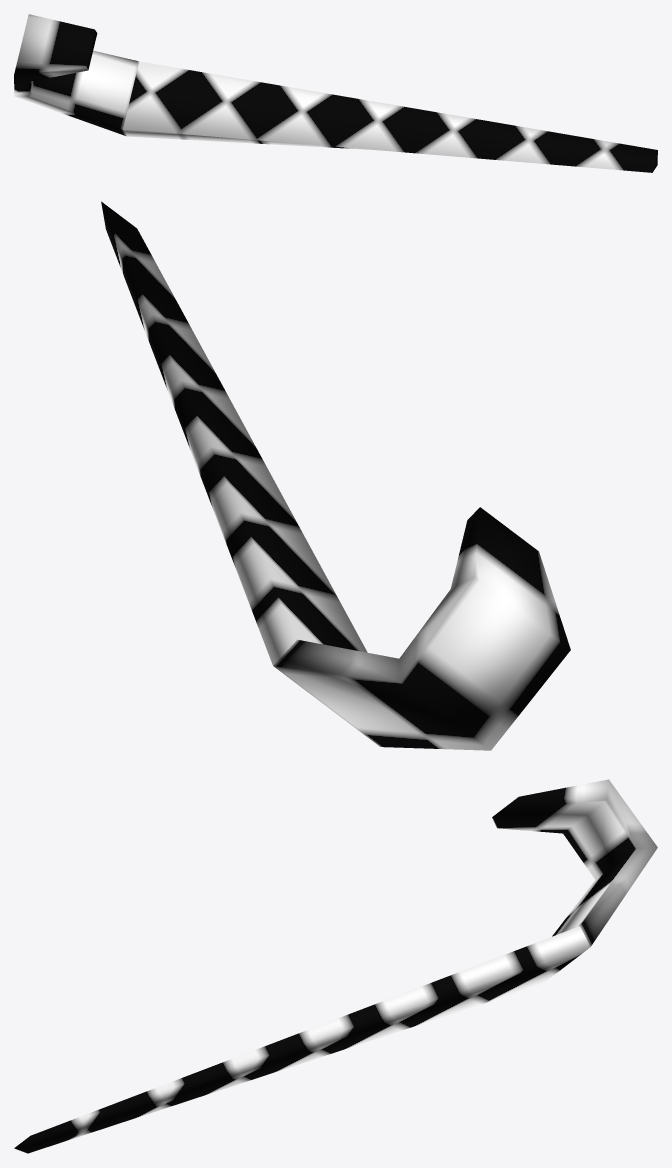
The model's file is initlitr8.dae.
3 views of the same model, one above another, from view 1: azimuth 30°, elevation 25°; view 2: azimuth 150°, elevation 25°; view 3: azimuth 270°, elevation 25° (orthographic). The views are drawn at different scales.
Visible parts, largest first — view 1: item; view 2: item; view 3: item.
Boxes of the visible parts, x1,y1,x2,y2 form: item: [14, 14, 657, 172]; item: [101, 201, 570, 750]; item: [14, 779, 657, 1153].
Size of the model in its own units: 1.82 by 1.76 by 0.4884.
Materials: 1 (1 with a texture image).
